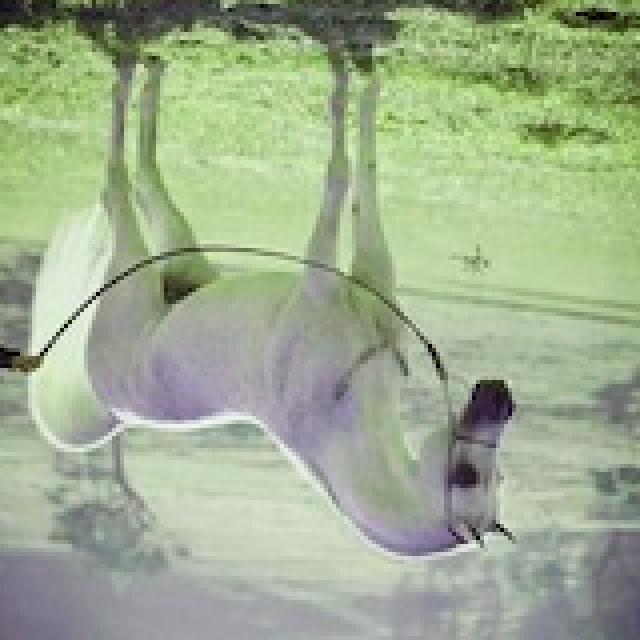Horse: (4, 36, 528, 568)
